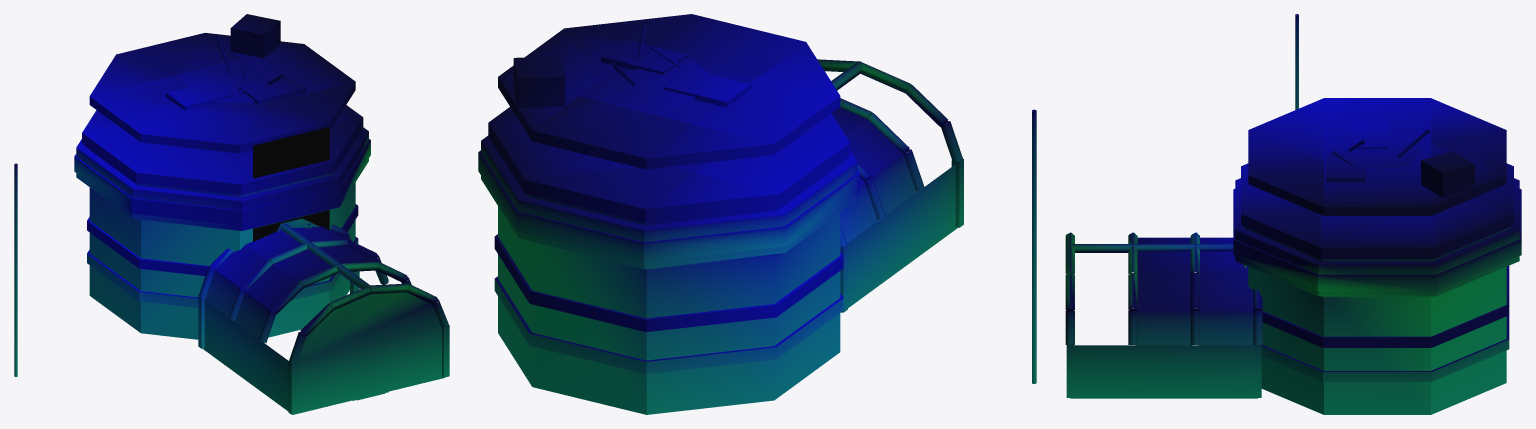
Rendered from l_spotlightcontrol_damaged.glb.
The picture shows the model from 3 angles, left to right: view 1: azimuth 30°, elevation 25°; view 2: azimuth 150°, elevation 25°; view 3: azimuth 270°, elevation 25°; orthographic projection. The views are drawn at different scales.
Visible parts, largest first — view 1: lod0; view 2: lod0; view 3: lod0.
Boxes of the visible parts, box(x1,y1,x2,y2) form: lod0: box(14, 14, 449, 414); lod0: box(478, 14, 1036, 414); lod0: box(1065, 14, 1521, 414).
Size of what is drawn, in the model's own units: 18.09 by 10.9 by 18.71.
